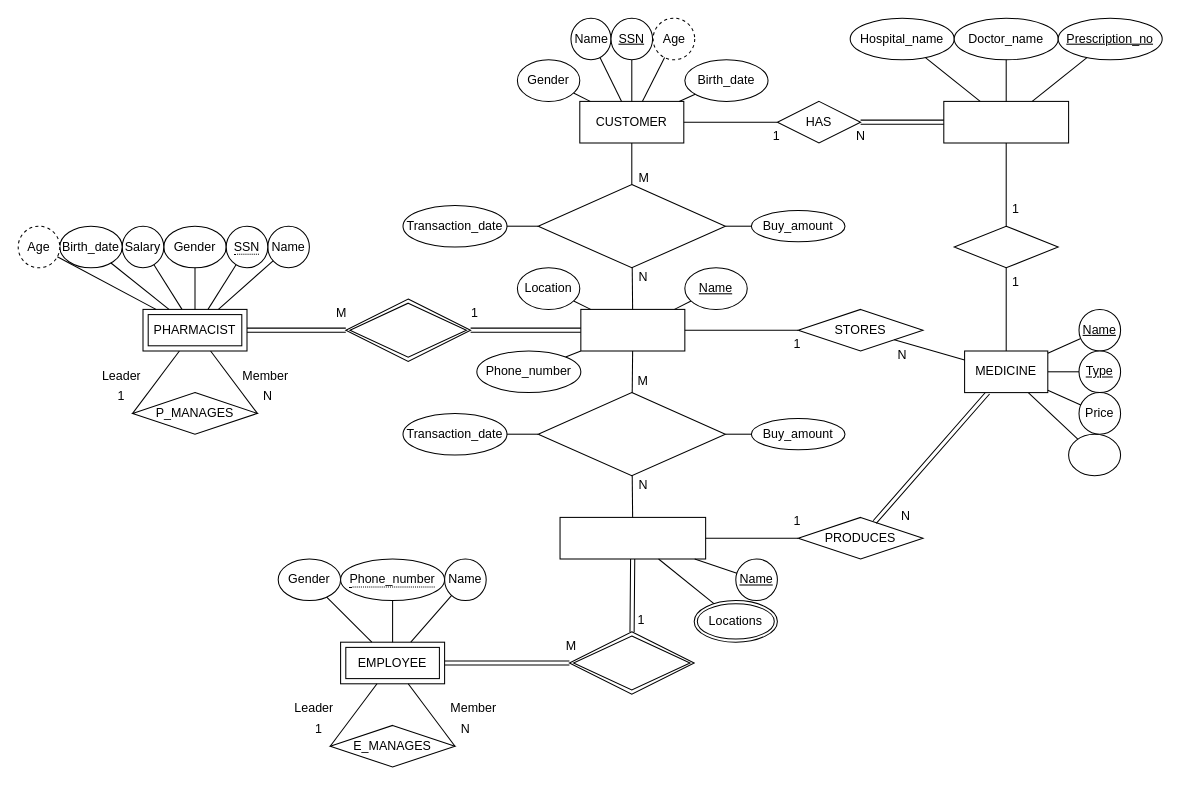
The diagram is 1180 pixels wide and 785 high, and some of its shapes have lost their labels. The centre of each missing label's shape, as x and y in pixels:
Amount: [1094,454]
BUYS_MEDICINE_FROM: [631,226]
GETS_MEDICINE_FROM: [631,434]
INCLUDES: [1005,246]
MEDICINE_COMPANY: [632,537]
PHARMACY: [632,329]
PRESCRIPTION: [1006,121]
WORKS_FOR: [408,329]
WORKS_IN: [631,662]
